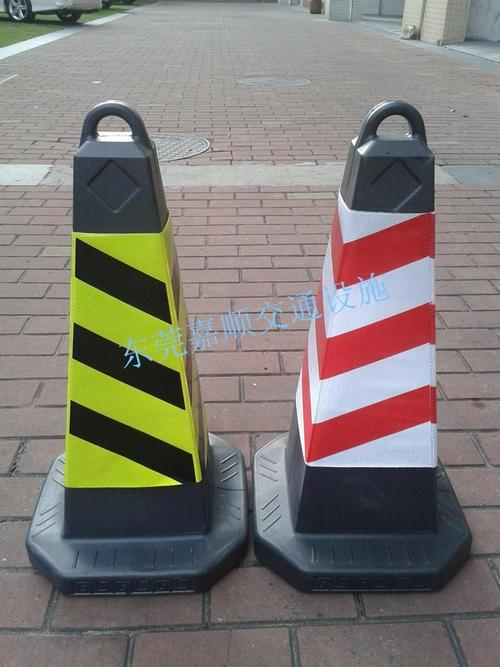cone_barrel: (24, 101, 258, 600), (253, 91, 476, 590)
